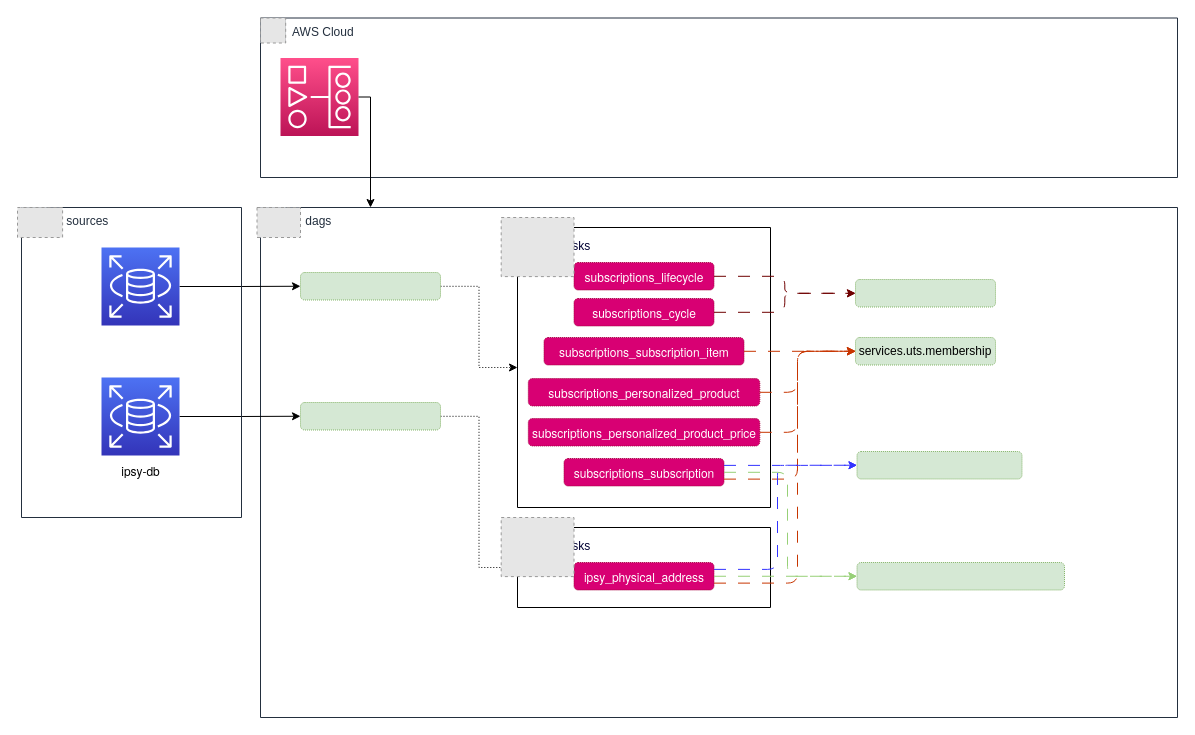
This 1195x735 diagram has some shape labels left out. Grey dashed boxes stand in for pictures. The centre of each missing label's shape, as x and y in pixels:
data.ocean.ipsy: point 370,416
data.ocean.subscriptions: point 370,286
Managed Airflow: point 319,96
services.uts.lifecycle: point 925,292
services.uts.physical_address: point 939,464
services.uts.refreshment_membership: point 960,576
subscriptions-pg12: point 140,286
